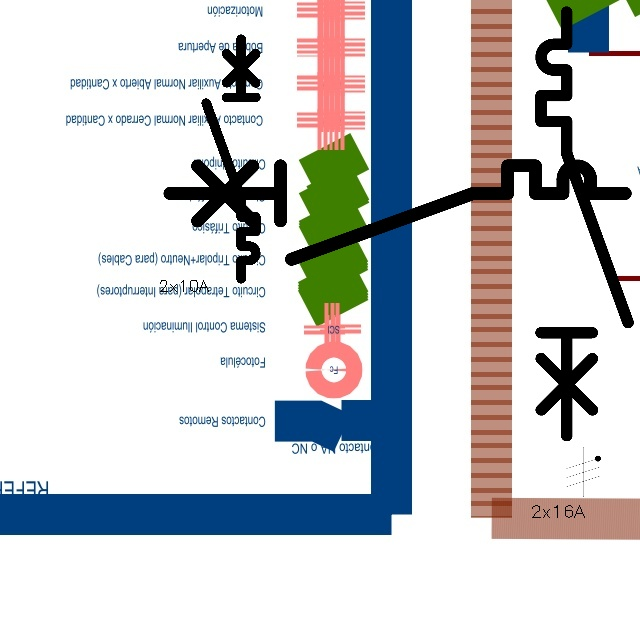interruptor_termomagnetico: (158, 154, 637, 271), (530, 1, 639, 447), (200, 33, 262, 285)
